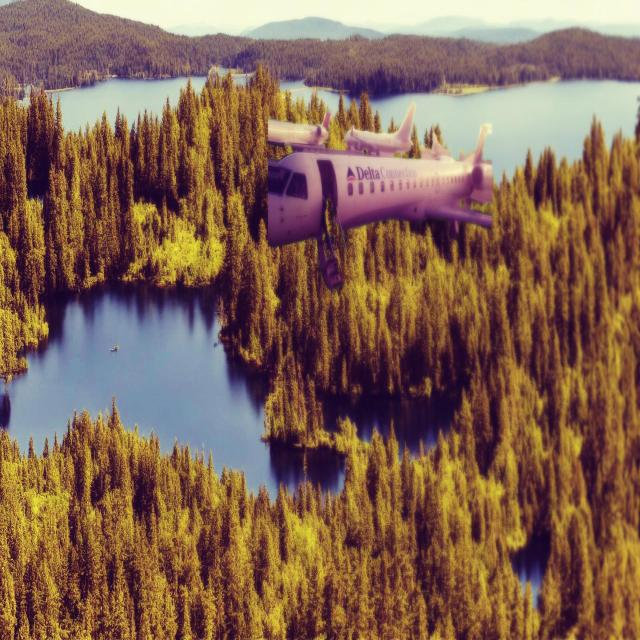airplane: (265, 103, 494, 290)
